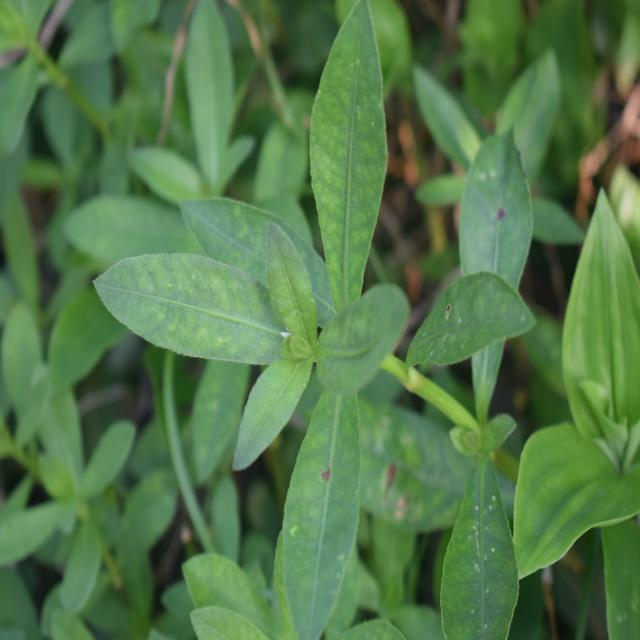Alligatorweed: (138, 70, 506, 598)
